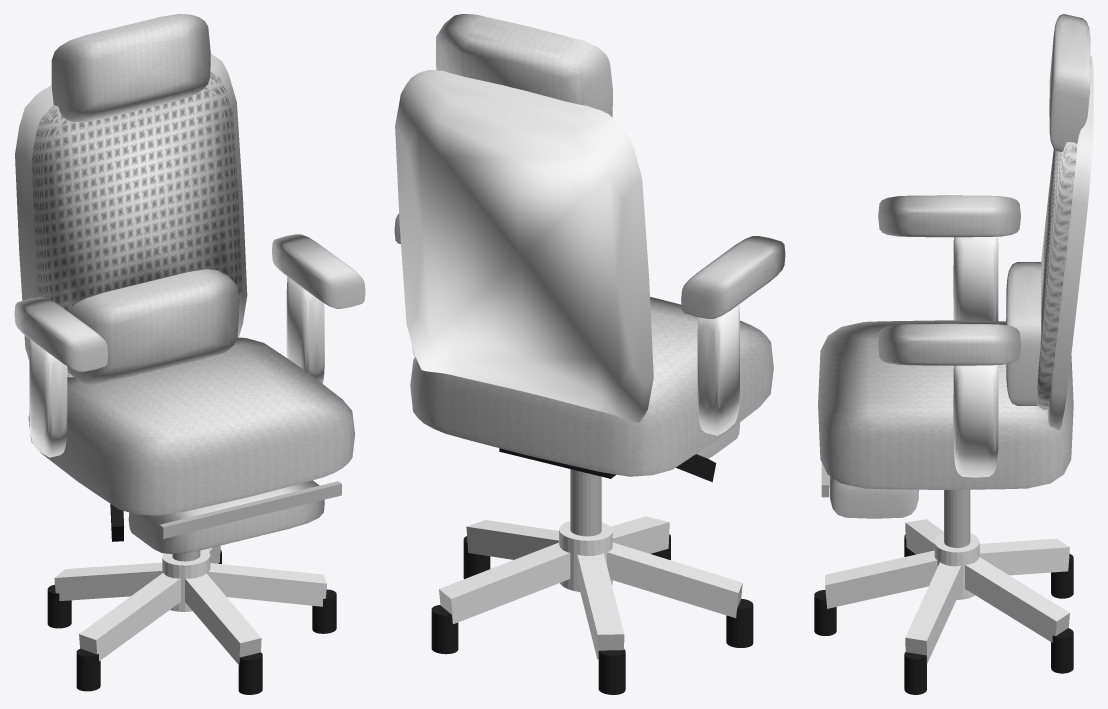
3 views of the same model, side by side, from view 1: azimuth 30°, elevation 25°; view 2: azimuth 150°, elevation 25°; view 3: azimuth 270°, elevation 25° (orthographic). The views are drawn at different scales.
Parts seen in each view (by area): view 1: 14 seat, 17 backrest, 19 headrest, 20 lumbar_pillow, 18 backrest_frame, 15 footrest_pad, 24 armrest_right_pad, 22 armrest_left_pad, 21 armrest_left_support, 11 spoke_5, 8 spoke_2, 7 spoke_1 (+8 smaller); view 2: 18 backrest_frame, 14 seat, 19 headrest, 22 armrest_left_pad, 9 spoke_3, 11 spoke_5, 21 armrest_left_support, 10 spoke_4, 8 spoke_2, 12 gas_lift, 6 base_hub, 7 spoke_1 (+5 smaller); view 3: 14 seat, 22 armrest_left_pad, 24 armrest_right_pad, 17 backrest, 18 backrest_frame, 23 armrest_right_support, 19 headrest, 20 lumbar_pillow, 9 spoke_3, 7 spoke_1, 21 armrest_left_support, 8 spoke_2 (+9 smaller).
Boxes of the visible parts, left/top/right/bottom form: 14 seat: left=28, top=337, right=354, bottom=515; 17 backrest: left=32, top=71, right=241, bottom=377; 19 headrest: left=51, top=14, right=210, bottom=122; 20 lumbar_pillow: left=67, top=269, right=238, bottom=384; 18 backrest_frame: left=15, top=53, right=247, bottom=360; 15 footrest_pad: left=128, top=480, right=324, bottom=553; 24 armrest_right_pad: left=272, top=234, right=365, bottom=308; 22 armrest_left_pad: left=14, top=297, right=107, bottom=371; 21 armrest_left_support: left=29, top=339, right=67, bottom=457; 11 spoke_5: left=79, top=573, right=180, bottom=661; 8 spoke_2: left=208, top=563, right=326, bottom=606; 7 spoke_1: left=185, top=573, right=261, bottom=665; 18 backrest_frame: left=395, top=70, right=653, bottom=422; 14 seat: left=410, top=297, right=773, bottom=476; 19 headrest: left=436, top=14, right=612, bottom=117; 22 armrest_left_pad: left=681, top=236, right=785, bottom=318; 9 spoke_3: left=439, top=542, right=570, bottom=624; 11 spoke_5: left=607, top=542, right=742, bottom=618; 21 armrest_left_support: left=697, top=304, right=739, bottom=435; 10 spoke_4: left=577, top=553, right=624, bottom=659; 8 spoke_2: left=466, top=520, right=558, bottom=559; 12 gas_lift: left=570, top=469, right=601, bottom=536; 6 base_hub: left=559, top=521, right=612, bottom=591; 7 spoke_1: left=610, top=516, right=669, bottom=553; 14 seat: left=818, top=320, right=1073, bottom=489; 22 armrest_left_pad: left=878, top=195, right=1020, bottom=237; 24 armrest_right_pad: left=878, top=323, right=1020, bottom=365; 17 backrest: left=1037, top=142, right=1077, bottom=409; 18 backrest_frame: left=1047, top=56, right=1093, bottom=429; 23 armrest_right_support: left=953, top=365, right=998, bottom=477; 19 headrest: left=1049, top=14, right=1090, bottom=151; 20 lumbar_pillow: left=1006, top=262, right=1041, bottom=405; 9 spoke_3: left=965, top=557, right=1069, bottom=642; 7 spoke_1: left=825, top=550, right=937, bottom=608; 21 armrest_left_support: left=953, top=236, right=998, bottom=320; 8 spoke_2: left=905, top=562, right=961, bottom=663.
Bounding box in the file's own units: 0.6599 × 1.24 × 0.5334.
Materials: 6 (2 with a texture image).
